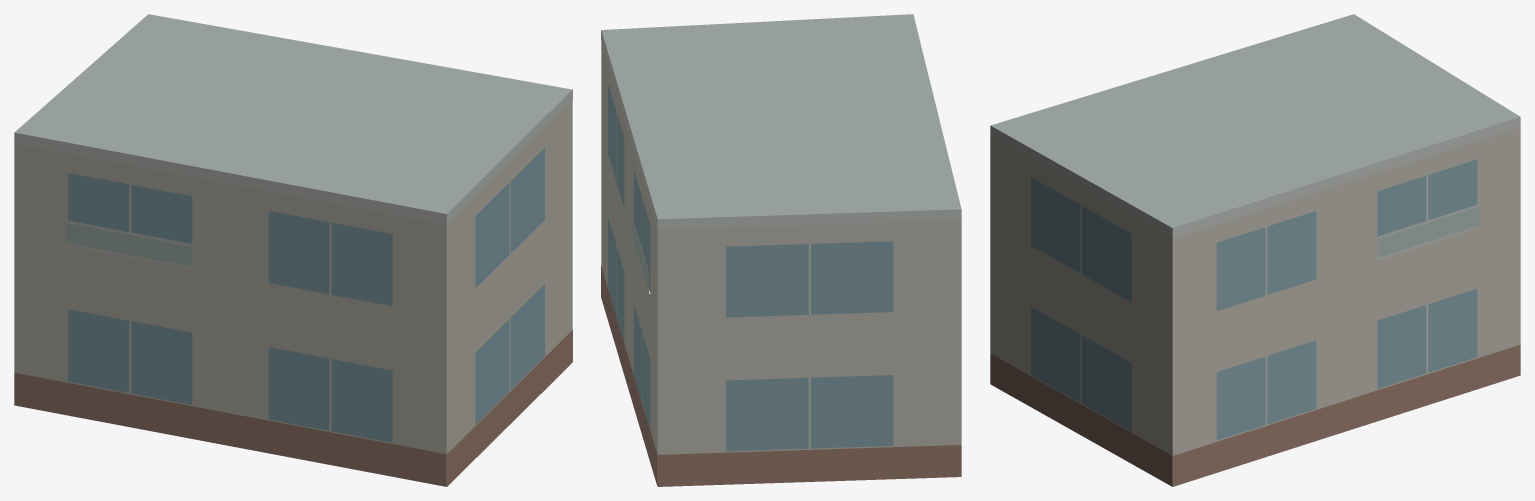
File: survey-upis-32528912.glb
3 views of the same model, side by side, from view 1: azimuth 30°, elevation 25°; view 2: azimuth 150°, elevation 25°; view 3: azimuth 270°, elevation 25° (orthographic). The views are drawn at different scales.
Parts seen in each view (by area): view 1: survey-upis-32528912.tmp; view 2: survey-upis-32528912.tmp; view 3: survey-upis-32528912.tmp.
Part boxes in pixels (x1,y1,x2,y2): survey-upis-32528912.tmp: [14, 14, 572, 486]; survey-upis-32528912.tmp: [601, 14, 961, 486]; survey-upis-32528912.tmp: [990, 14, 1520, 486].
Bounding box in the file's own units: 10.84 × 6.1 × 11.34.
